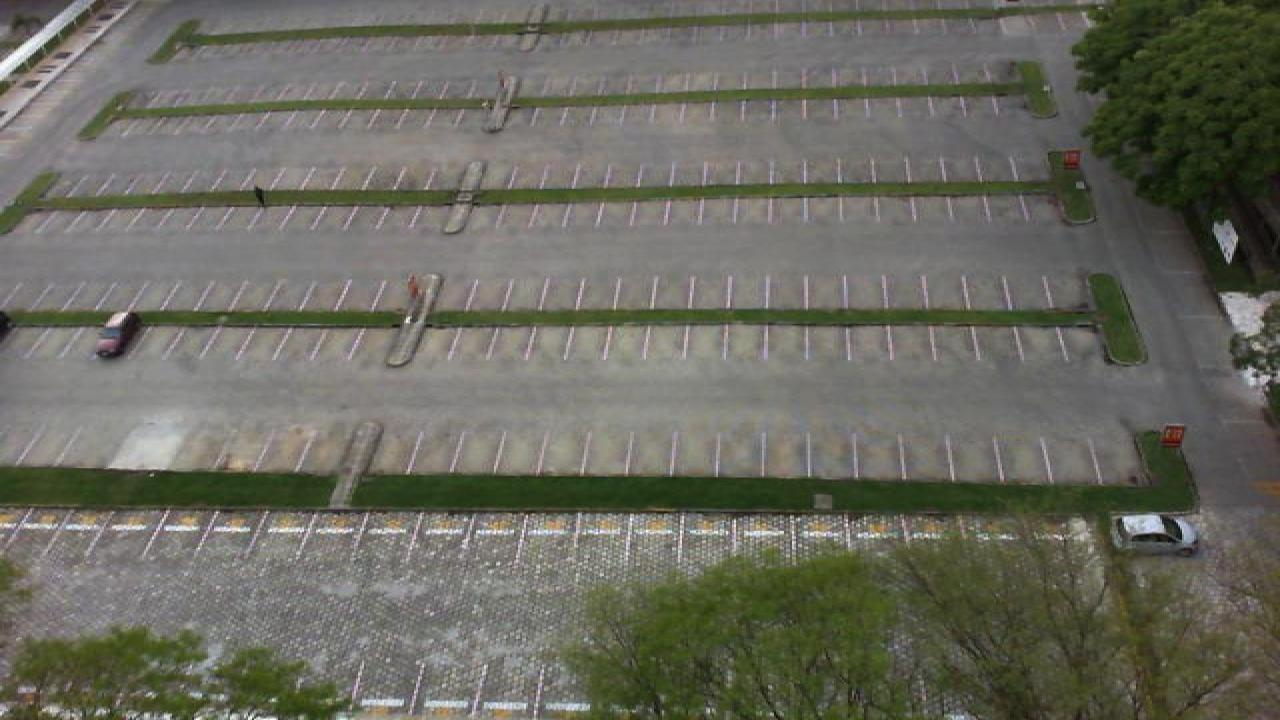Car: (1110, 513, 1200, 555), (92, 309, 142, 358)
